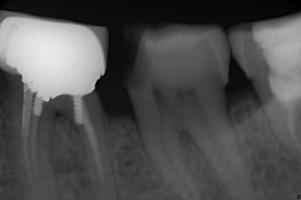Endo-Periodontal Lesion: (55, 110, 63, 117)
